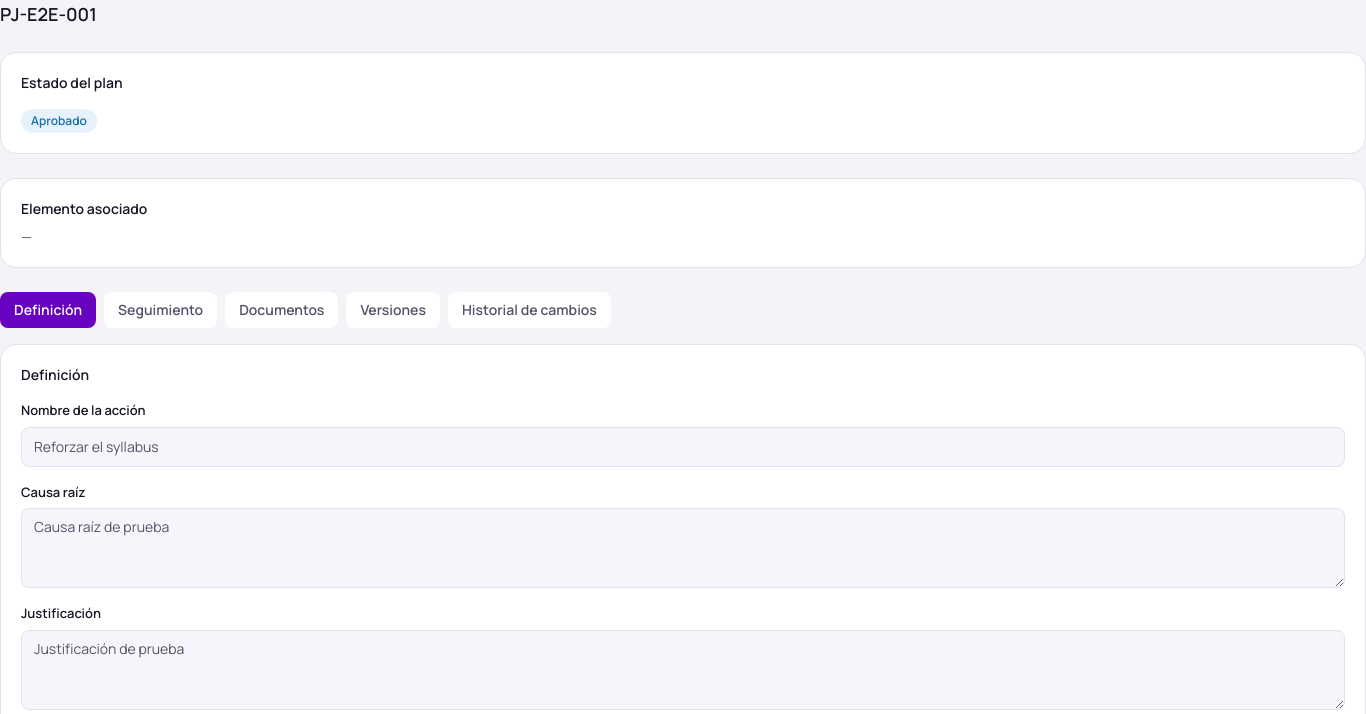
Test: RF-CH-043 y RF-CH-044 — el detalle con el ciclo propio › el seguimiento en Aprobado es editable: true
The image size is (1366, 714).
Click the tab "Seguimiento" at coordinates (161, 310), box [104,292,217,328]
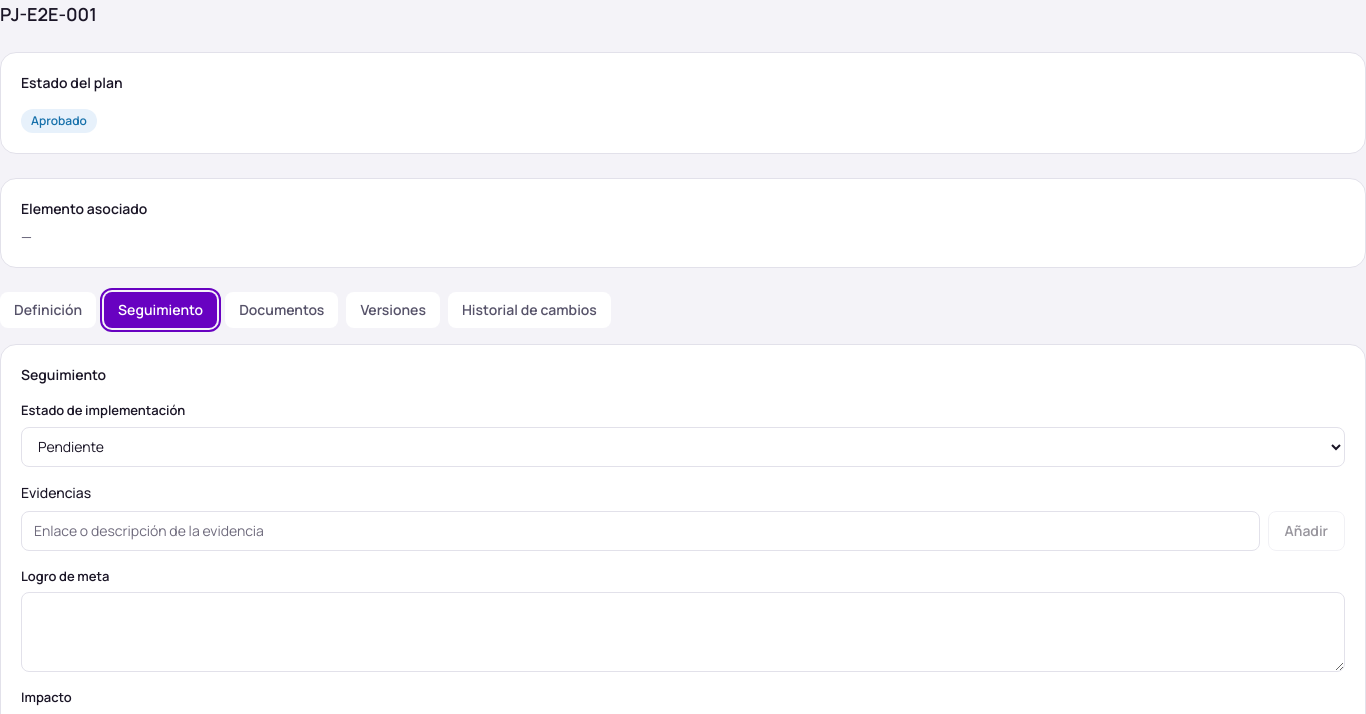
Expected: the dropdown labelled "Estado de implementación" is enabled, [21,426,1345,466]
